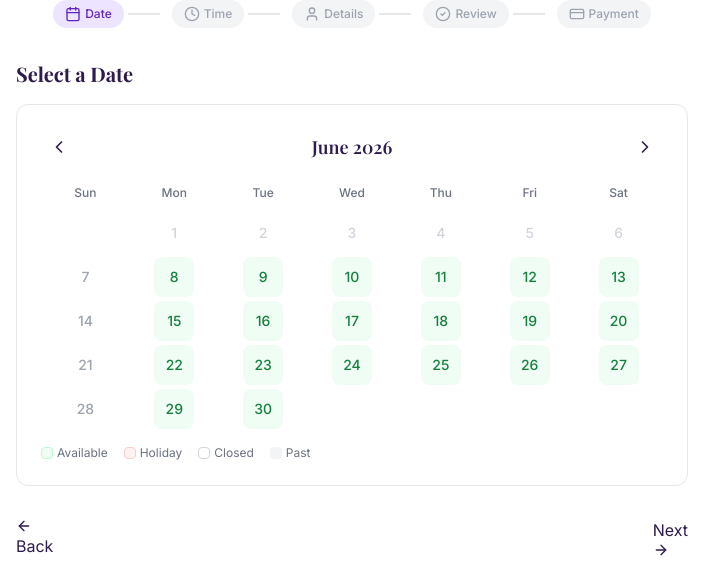
Test case: BookingWizard › consultation: navigates from date to time step
This screenshot has width=705, height=575.
Expected: the heading "Select a Date" is shown, [16, 60, 133, 87]
Click the button "30".
click(263, 409)  # box [243, 389, 283, 429]
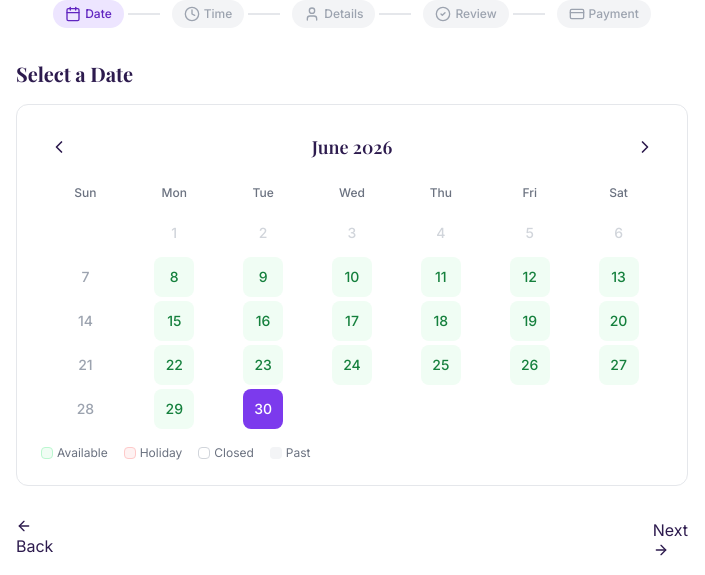
Click the button "Next".
click(670, 538)  # box [653, 518, 688, 558]
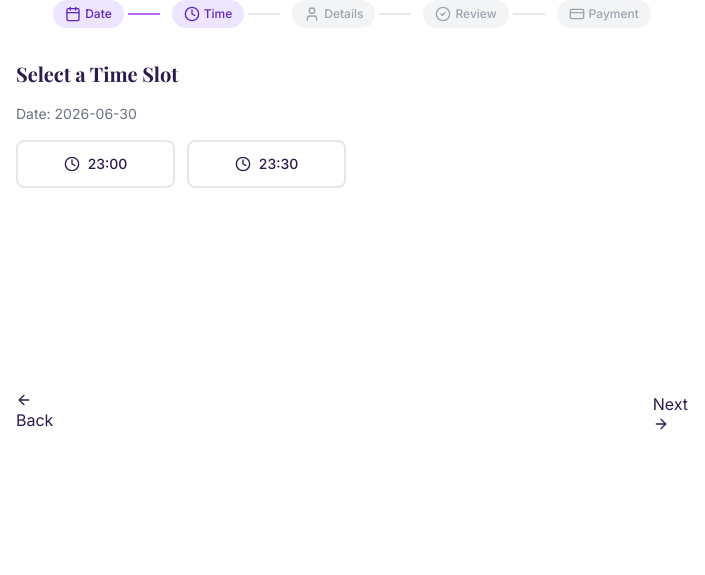
Result: the heading "Select a Time Slot" is shown at [16, 60, 178, 87]
